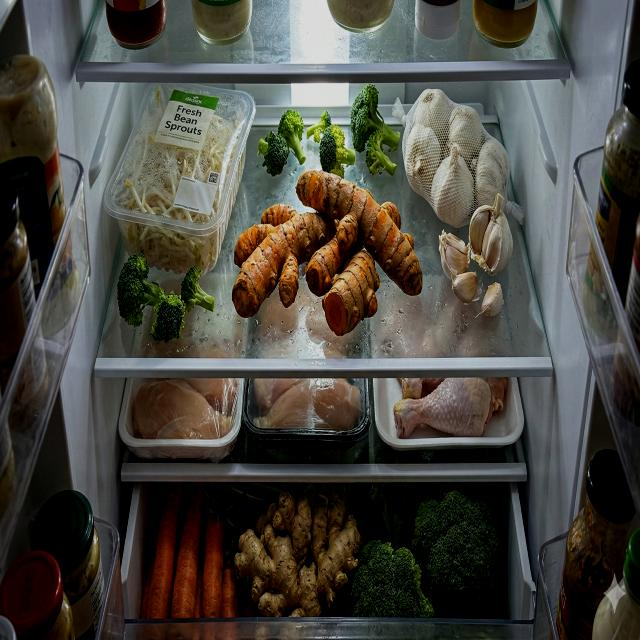bean_sprouts: (125, 92, 236, 274)
brocolli: (350, 483, 506, 619), (116, 250, 215, 342), (350, 84, 400, 175), (306, 110, 356, 180), (258, 108, 306, 176)
carrot: (140, 480, 238, 619)
chicken: (393, 376, 508, 438), (132, 378, 238, 440), (253, 378, 363, 430)
garlic: (402, 89, 514, 318)
ginger: (235, 492, 362, 619)
turmeric: (232, 170, 423, 336)
